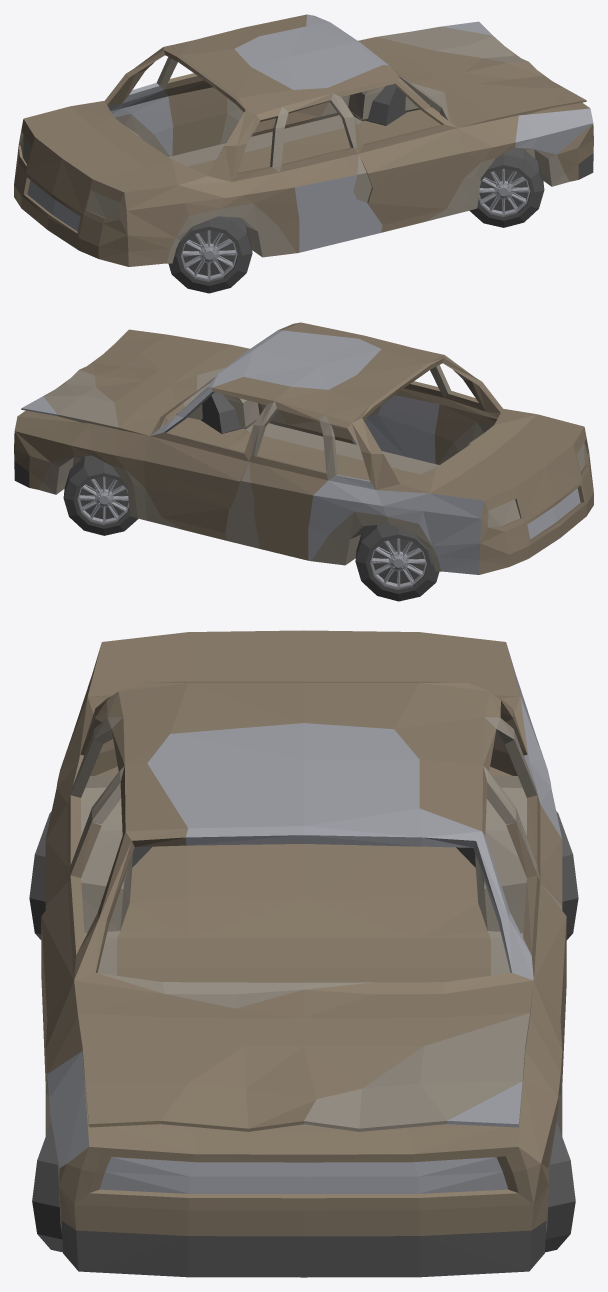
The model's file is p_wreck.glb.
The picture shows the model from 3 angles, top to bottom: view 1: azimuth 30°, elevation 25°; view 2: azimuth 150°, elevation 25°; view 3: azimuth 270°, elevation 25°; orthographic projection. The views are drawn at different scales.
Visible parts, largest first — view 1: hull; view 2: hull; view 3: hull.
Boxes of the visible parts, x1=… form: hull: x1=14, y1=14, x2=593, y2=293; hull: x1=14, y1=322, x2=593, y2=601; hull: x1=29, y1=630, x2=578, y2=1277.
Bounding box in the file's own units: 4.4 × 1.41 × 2.12.
